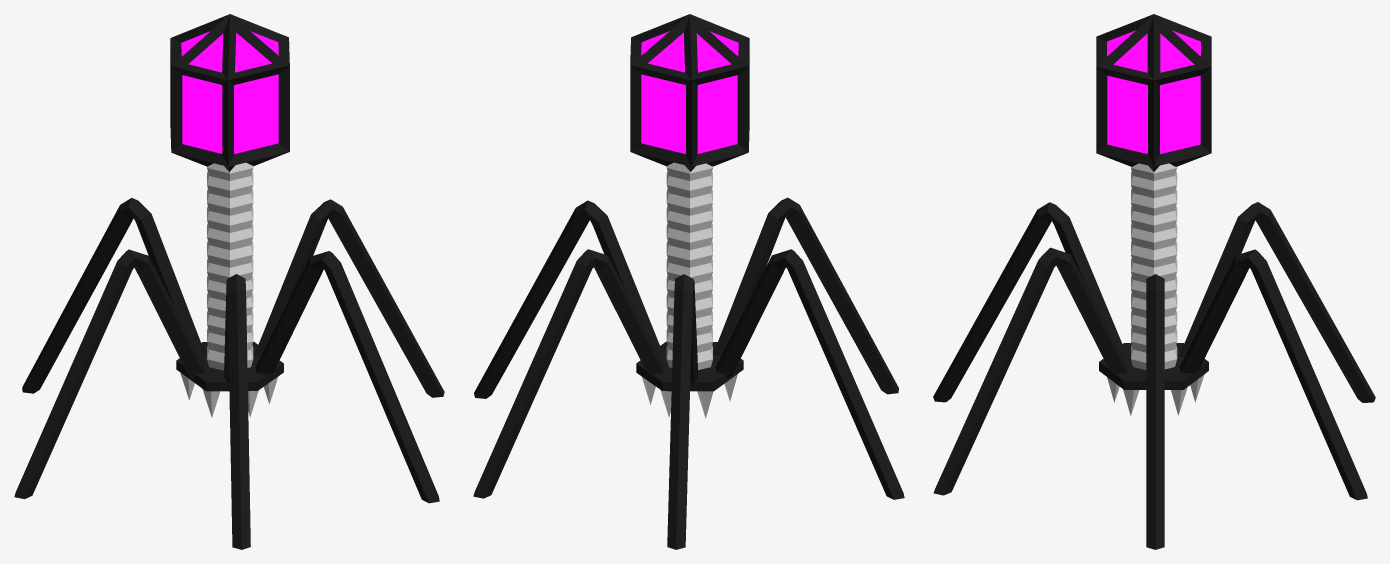
Rendered from Virus.fbx.
The picture shows the model from 3 angles, left to right: view 1: azimuth 30°, elevation 25°; view 2: azimuth 150°, elevation 25°; view 3: azimuth 270°, elevation 25°; orthographic projection.
Parts seen in each view (by area): view 1: Pernas, Cabeça, Tronco, Base, Fixadores; view 2: Pernas, Cabeça, Tronco, Base, Fixadores; view 3: Pernas, Cabeça, Tronco, Base, Fixadores.
Boxes of the visible parts, box(x1,y1,x2,y2) form: Pernas: box(14, 198, 444, 549); Cabeça: box(170, 14, 289, 171); Tronco: box(207, 162, 253, 370); Base: box(176, 341, 283, 391); Fixadores: box(180, 372, 277, 417); Pernas: box(473, 197, 904, 549); Cabeça: box(630, 14, 749, 171); Tronco: box(666, 162, 712, 370); Base: box(636, 341, 743, 391); Fixadores: box(642, 374, 737, 418); Pernas: box(933, 202, 1375, 549); Cabeça: box(1096, 14, 1211, 171); Tronco: box(1131, 163, 1177, 369); Base: box(1099, 343, 1208, 389); Fixadores: box(1107, 374, 1204, 415).
Bounding box in the file's own units: 1109 × 1061 × 988.
